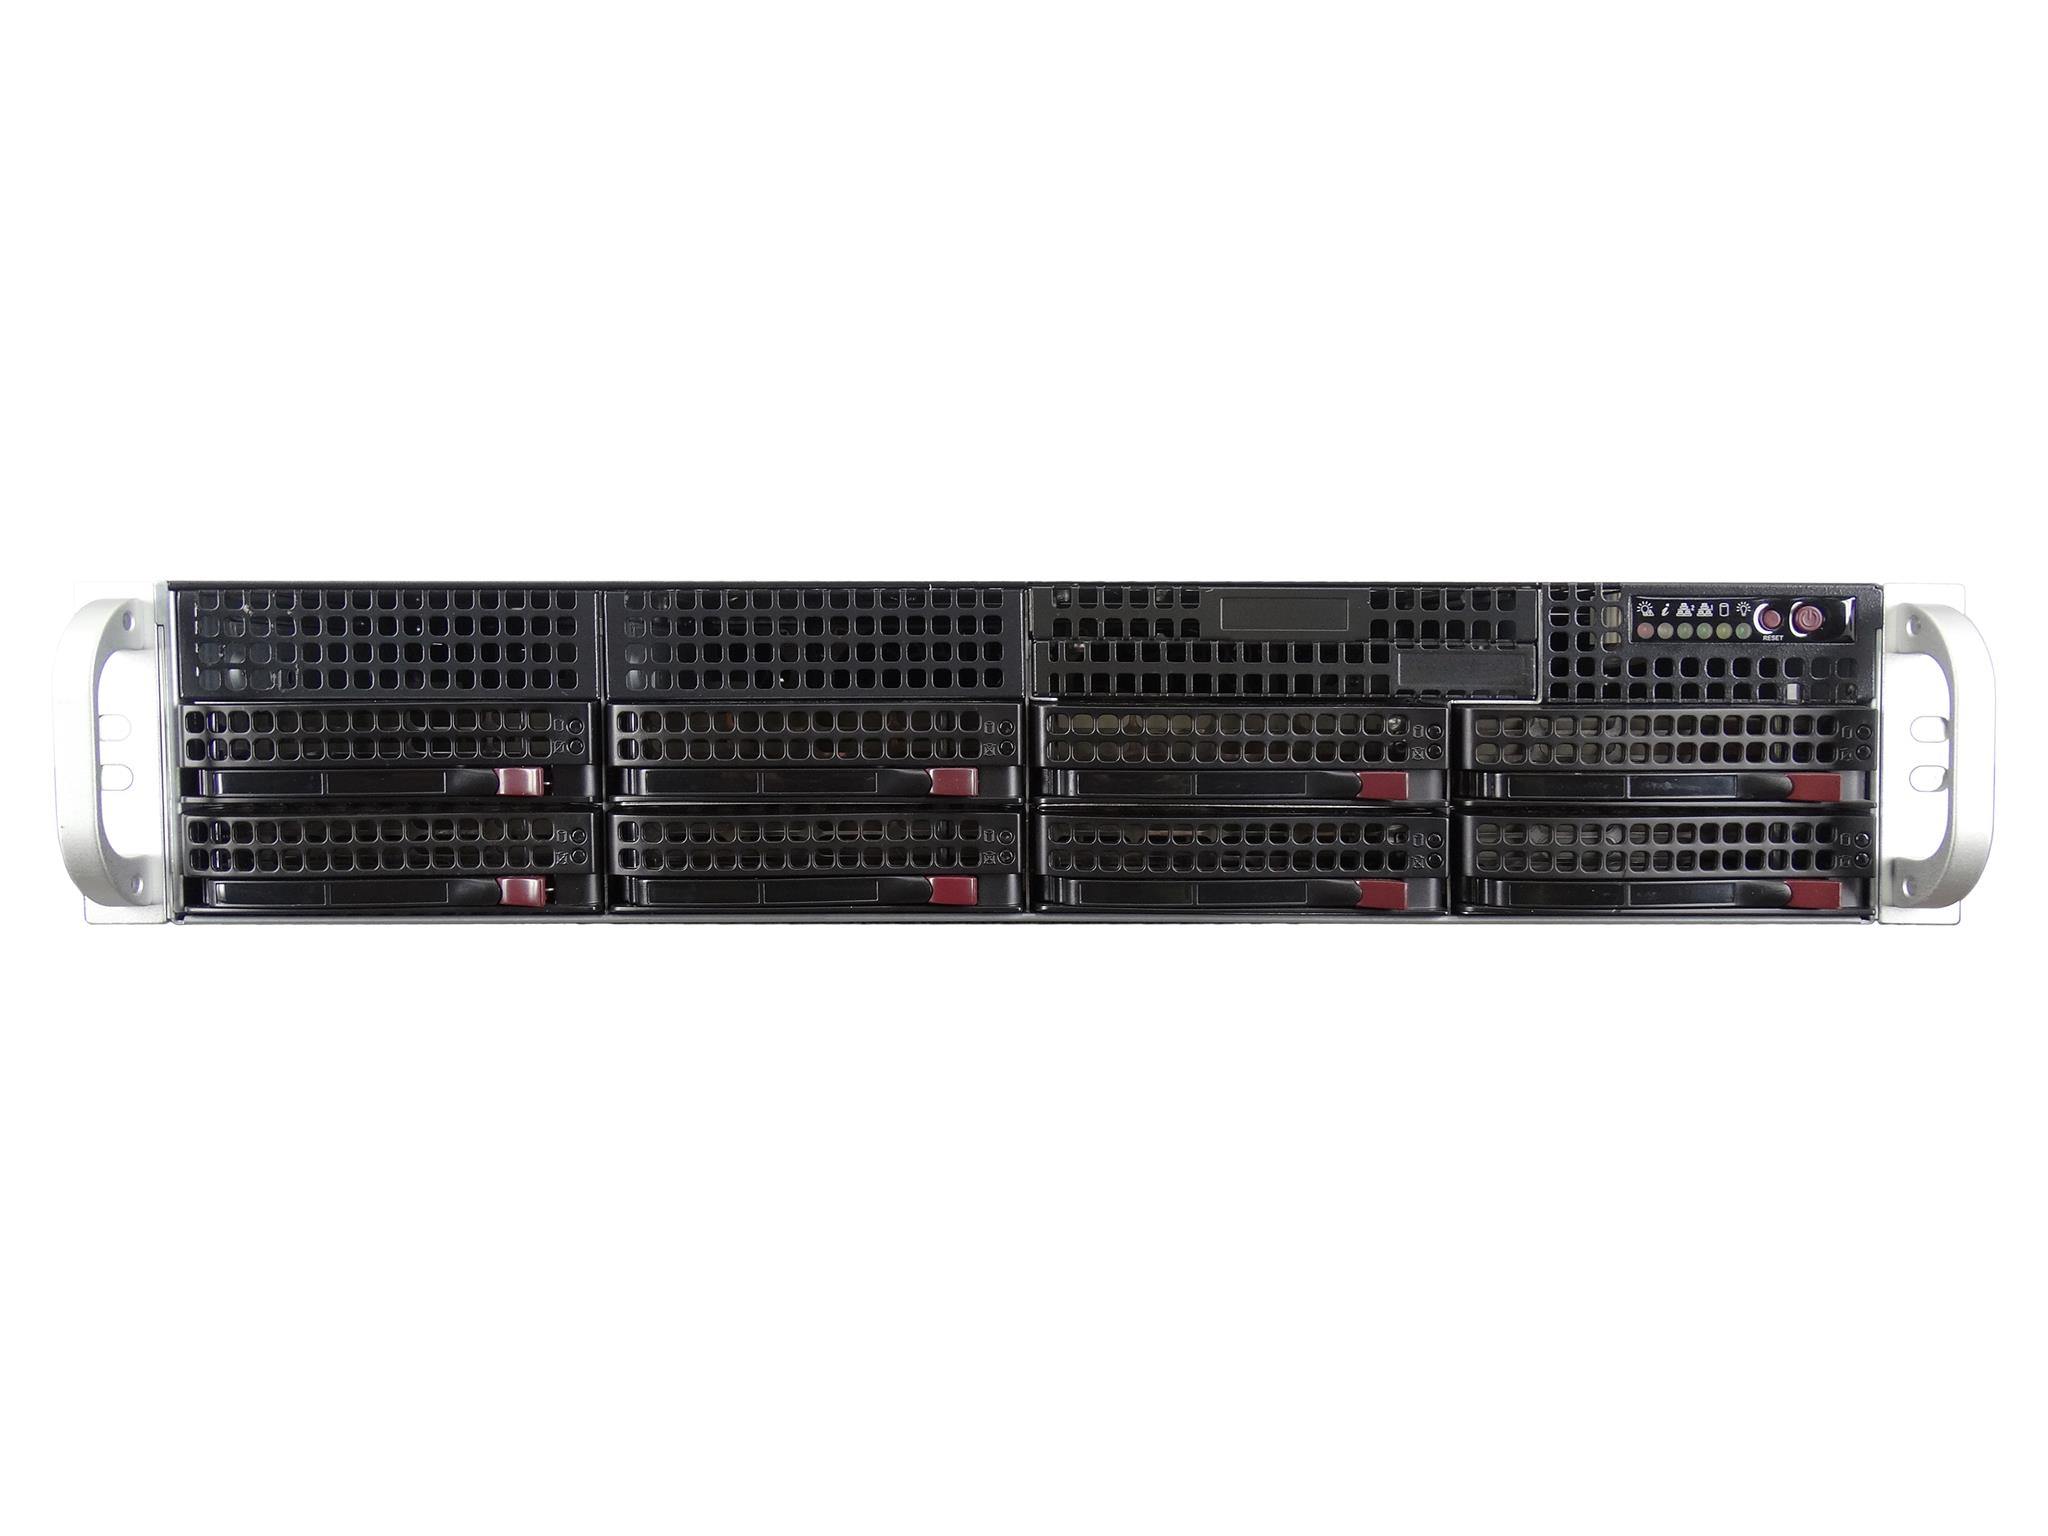Server: (31, 544, 2022, 978)
